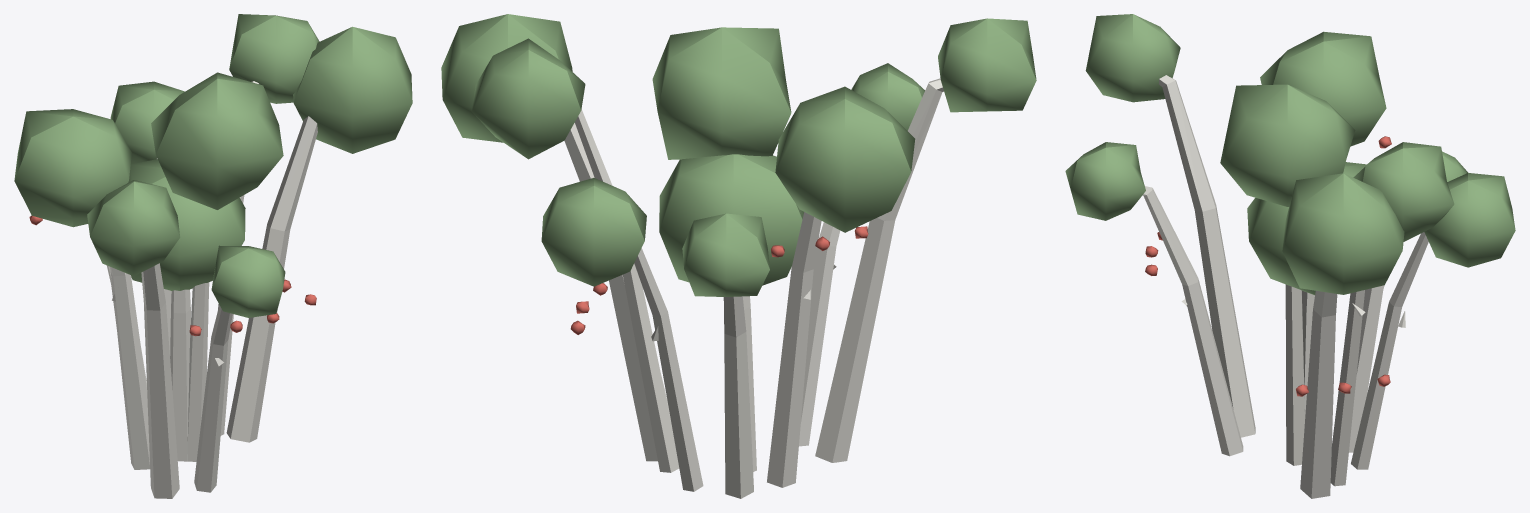
Rendered from hawthorn_bush.glb.
3 renders of one model, left to right at view 1: azimuth 30°, elevation 25°; view 2: azimuth 150°, elevation 25°; view 3: azimuth 270°, elevation 25°, orthographic. The views are drawn at different scales.
Visible parts, largest first — view 1: hawthorn-bush; view 2: hawthorn-bush; view 3: hawthorn-bush.
Part boxes in pixels (x1,y1,x2,y2): hawthorn-bush: [14, 14, 412, 498]; hawthorn-bush: [441, 14, 1036, 498]; hawthorn-bush: [1065, 14, 1515, 498].
Size of the model in its own units: 2.79 by 2.4 by 2.51.
